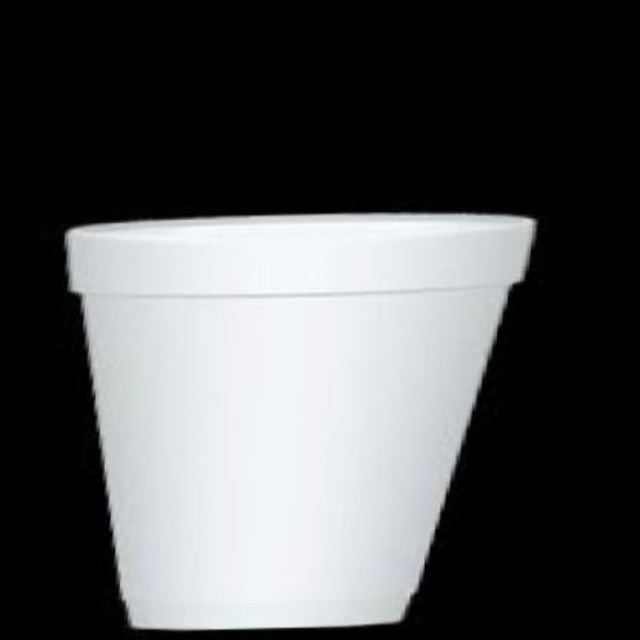trash: (66, 214, 534, 628)
